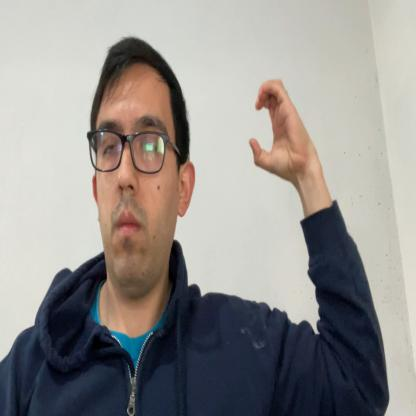C: (248, 77, 307, 183)
